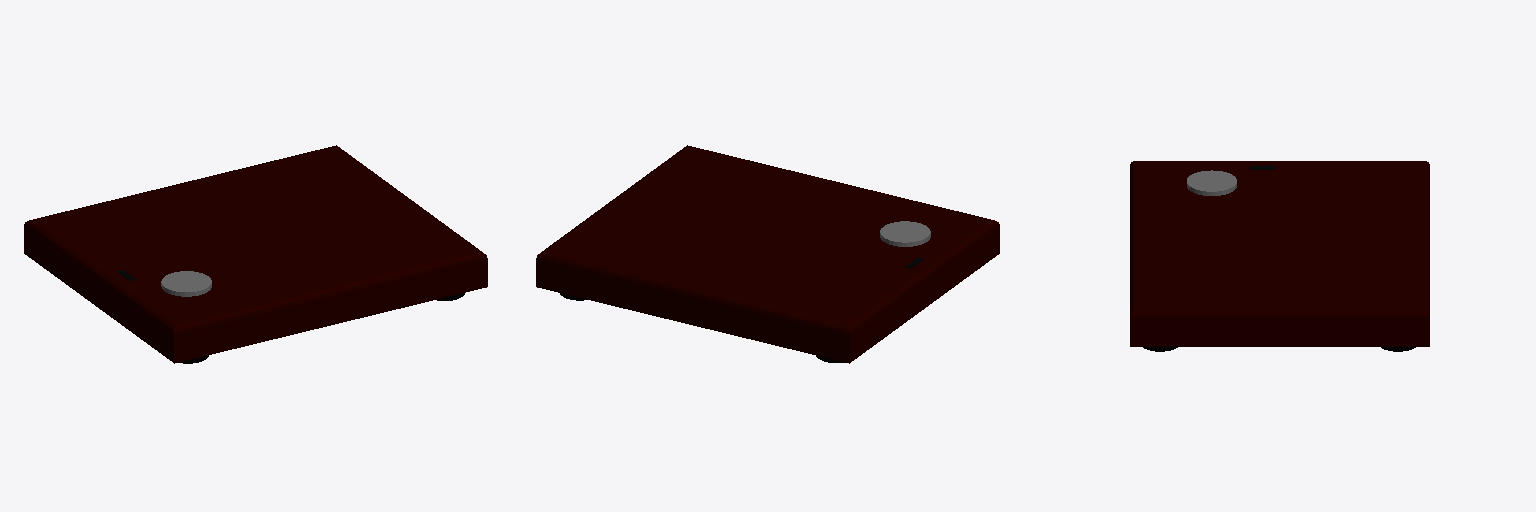
File: deck.obj
The picture shows the model from 3 angles: view 1: azimuth 30°, elevation 25°; view 2: azimuth 150°, elevation 25°; view 3: azimuth 270°, elevation 25°; orthographic projection.
Visible parts, largest first — view 1: Deck_Cube, Cylinder.007_Cylinder.012; view 2: Deck_Cube, Cylinder.007_Cylinder.012; view 3: Deck_Cube, Cylinder.007_Cylinder.012.
Part boxes in pixels (x1,y1,x2,y2): Deck_Cube: (24,145,487,363); Cylinder.007_Cylinder.012: (161,271,211,296); Deck_Cube: (536,145,999,363); Cylinder.007_Cylinder.012: (880,221,930,246); Deck_Cube: (1130,161,1429,346); Cylinder.007_Cylinder.012: (1187,170,1236,195).
Bounding box in the file's own units: 4.29 × 0.6369 × 3.55.